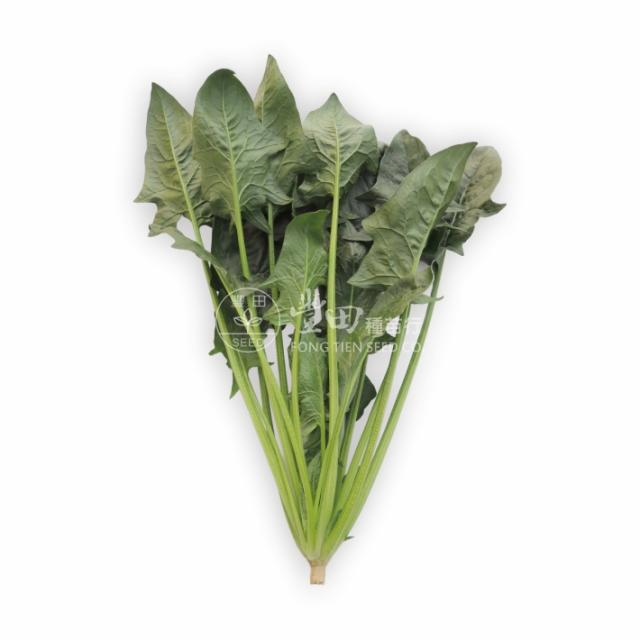spinach: (99, 45, 528, 590)
